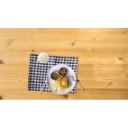briyani: (56, 78, 70, 89)
